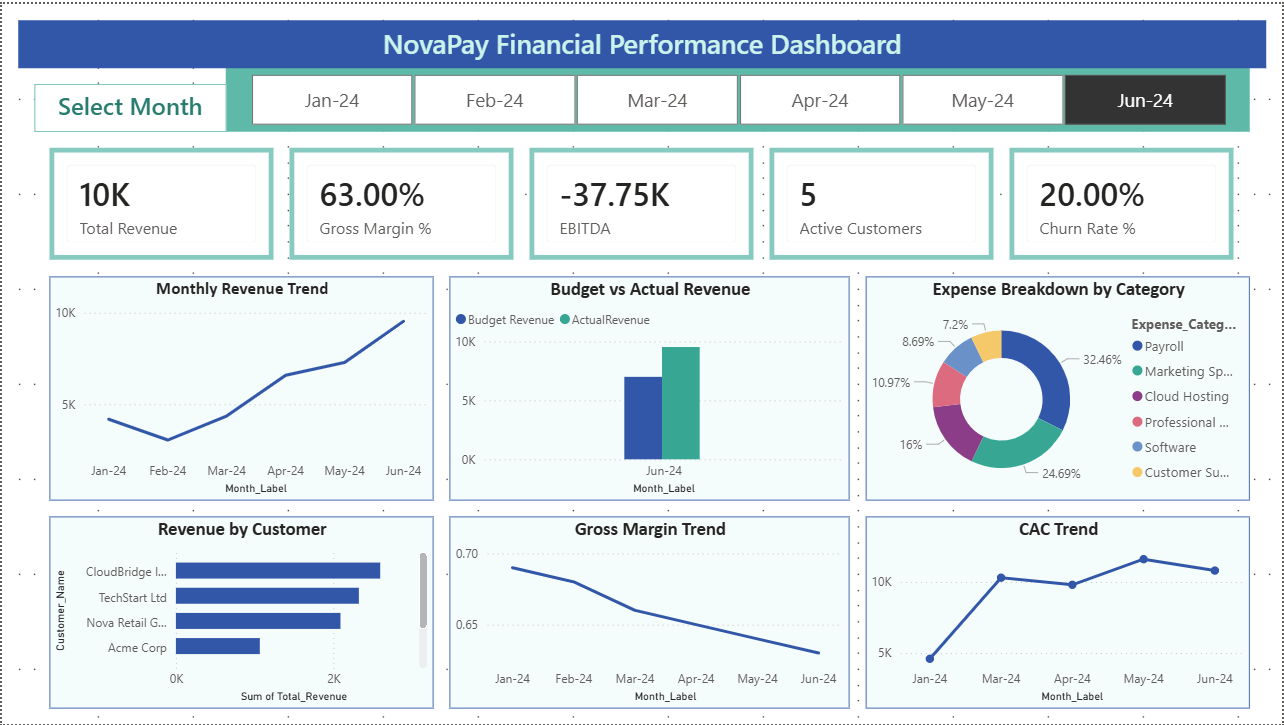

The page's visual inventory and layout, read from the dashboard file:
{"tool":"powerbi","page":{"name":"Executive Dashboard","canvas":[1280,720],"ordinal":0},"visuals":[{"type":"slicer","fields":{"Values":["tblDate.Month_Label"]},"box":[224,64,1024,64],"z":0},{"type":"cardVisual","fields":{"Data":["Monthly_Summary.Total Revenue"]},"box":[48,144,224,112],"z":1000},{"type":"cardVisual","fields":{"Data":["Monthly_Summary.Gross Margin %"]},"box":[288,144,224,112],"z":2000},{"type":"cardVisual","fields":{"Data":["Monthly_Summary.Total EBITDA"]},"box":[528,144,224,112],"z":3000},{"type":"cardVisual","fields":{"Data":["tblKPI.Active Customers KPI"]},"box":[768,144,224,112],"z":4000},{"type":"cardVisual","fields":{"Data":["tblKPI.Churn Rate %"]},"box":[1008,144,224,112],"z":5000},{"type":"lineChart","title":"Monthly Revenue Trend","fields":{"Category":["tblDate.Month_Label"],"Y":["Sum(Monthly_Summary.Actual_Revenue)"]},"box":[48,272,384,224],"z":6000},{"type":"clusteredColumnChart","title":"Budget vs Actual Revenue","fields":{"Category":["tblDate.Month_Label"],"Y":["Sum(Budget_vs_Actual.Budget_Revenue)","Sum(Budget_vs_Actual.Actual_Revenue)"]},"box":[448,272,400,224],"z":7000},{"type":"donutChart","title":"Expense Breakdown by Category","fields":{"Category":["tblExpenses.Expense_Category"],"Y":["Sum(tblExpenses.Actual_Expense)"]},"box":[864,272,384,224],"z":8000},{"type":"barChart","title":"Revenue by Customer","fields":{"Category":["tblCustomers.Customer_Name"],"Y":["Sum(tblRevenue.Total_Revenue)"]},"box":[48,512,384,192],"z":9000},{"type":"lineChart","title":"Gross Margin Trend","fields":{"Category":["tblDate.Month_Label"],"Y":["Avg(tblKPI.Gross_Margin)"]},"box":[448,512,400,192],"z":10000},{"type":"lineChart","title":"CAC Trend","fields":{"Category":["tblDate.Month_Label"],"Y":["Avg(tblKPI.CAC)"]},"box":[864,512,384,192],"z":11000},{"type":"textbox","box":[32,80,192,48],"z":12000},{"type":"textbox","box":[16,16,1248,48],"z":13000}]}

Visuals, with their boxes in screenshot pixels (x1, y1, x2, y2), scaled from the page's 1280x720 canvas onto the 1284x725 screenshot:
slicer - tblDate.Month_Label: 225 64 1252 129
cardVisual - Monthly_Summary.Total Revenue: 48 145 273 258
cardVisual - Monthly_Summary.Gross Margin %: 289 145 514 258
cardVisual - Monthly_Summary.Total EBITDA: 530 145 754 258
cardVisual - tblKPI.Active Customers KPI: 770 145 995 258
cardVisual - tblKPI.Churn Rate %: 1011 145 1236 258
"Monthly Revenue Trend" lineChart: 48 274 433 499
"Budget vs Actual Revenue" clusteredColumnChart: 449 274 851 499
"Expense Breakdown by Category" donutChart: 867 274 1252 499
"Revenue by Customer" barChart: 48 516 433 709
"Gross Margin Trend" lineChart: 449 516 851 709
"CAC Trend" lineChart: 867 516 1252 709
textbox: 32 81 225 129
textbox: 16 16 1268 64
